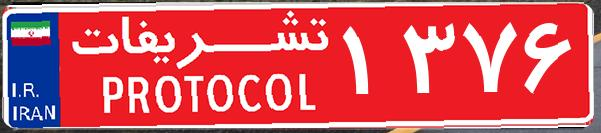1: (340, 20, 400, 115)
3: (400, 20, 460, 115)
6: (520, 20, 580, 115)
7: (460, 20, 520, 115)
تشریفات: (60, 8, 340, 125)
